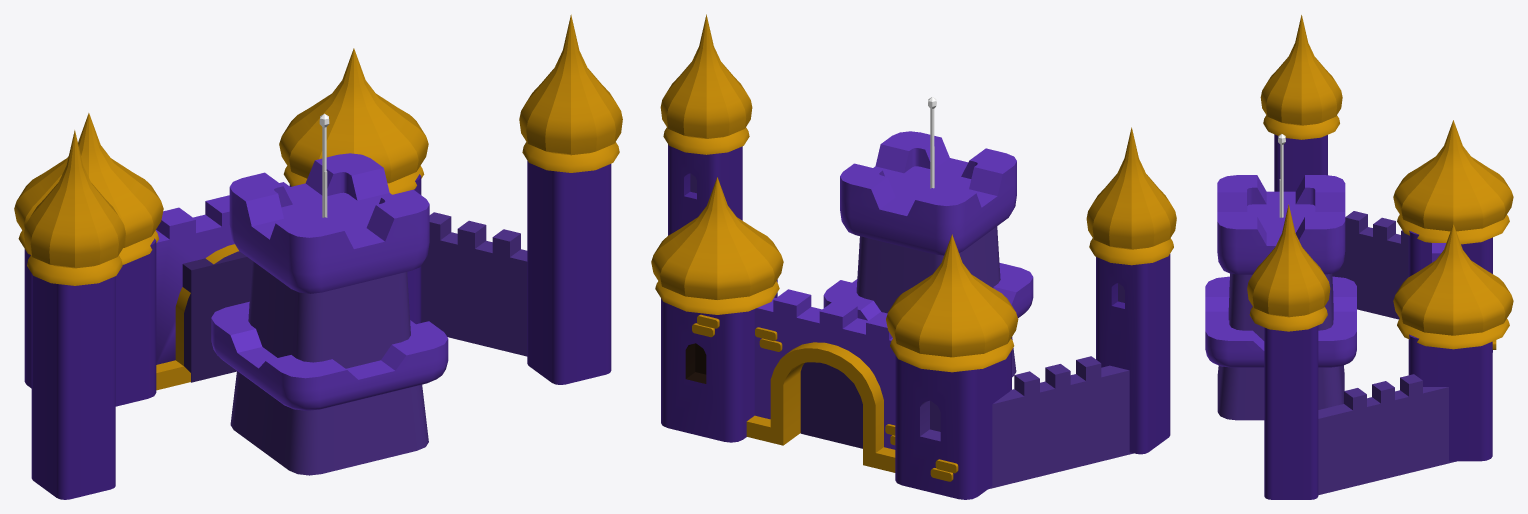
Rendered from CubeCastle_02_2.fbx.
The picture shows the model from 3 angles, left to right: view 1: azimuth 30°, elevation 25°; view 2: azimuth 150°, elevation 25°; view 3: azimuth 270°, elevation 25°; orthographic projection. The views are drawn at different scales.
Parts seen in each view (by area): view 1: CastleT8, CastleT8 (1), CastleT6 (1), CastleT6 (2), CastleT4 (3), Cupol (5), Cupol (2), Cupol (3), CastleT1, CastleT2 (2), Cupol (6), Gate (+1 smaller); view 2: CastleT8, CastleT1, CastleT4 (2), CastleT2 (2), CastleT6 (1), CastleT2 (3), Cupol (5), Cupol (6), Cupol (2), Cupol (3), CastleT6 (2), Gate (+1 smaller); view 3: CastleT4 (3), CastleT8, CastleT8 (1), CastleT6 (2), Cupol (5), Cupol (6), CastleT2 (3), Cupol (2), Cupol (3), CastleT4 (2), CastleT6 (1), CastleT2 (2) (+1 smaller).
Part boxes in pixels (left/top/right/bottom): CastleT8: left=229, top=153, right=429, bottom=368; CastleT8 (1): left=211, top=301, right=448, bottom=475; CastleT6 (1): left=31, top=273, right=115, bottom=499; CastleT6 (2): left=527, top=161, right=611, bottom=384; CastleT4 (3): left=421, top=212, right=527, bottom=356; Cupol (5): left=279, top=48, right=428, bottom=194; Cupol (2): left=519, top=14, right=622, bottom=172; Cupol (3): left=24, top=130, right=125, bottom=285; CastleT1: left=155, top=182, right=289, bottom=390; CastleT2 (2): left=24, top=238, right=156, bottom=406; Cupol (6): left=14, top=113, right=163, bottom=264; Gate: left=182, top=251, right=251, bottom=382; CastleT8: left=840, top=131, right=1016, bottom=313; CastleT1: left=746, top=289, right=895, bottom=472; CastleT4 (2): left=988, top=356, right=1133, bottom=489; CastleT2 (2): left=895, top=337, right=1011, bottom=499; CastleT6 (1): left=1096, top=254, right=1170, bottom=454; CastleT2 (3): left=661, top=279, right=777, bottom=442; Cupol (5): left=651, top=177, right=783, bottom=314; Cupol (6): left=886, top=234, right=1018, bottom=372; Cupol (2): left=660, top=14, right=752, bottom=154; Cupol (3): left=1086, top=127, right=1176, bottom=265; CastleT6 (2): left=668, top=144, right=742, bottom=235; Gate: left=800, top=362, right=862, bottom=448; CastleT4 (3): left=1318, top=374, right=1456, bottom=495; CastleT8: left=1217, top=175, right=1345, bottom=340; CastleT8 (1): left=1205, top=276, right=1356, bottom=420; CastleT6 (2): left=1264, top=325, right=1318, bottom=499; Cupol (5): left=1393, top=224, right=1513, bottom=349; Cupol (6): left=1393, top=120, right=1513, bottom=244; CastleT2 (3): left=1408, top=334, right=1492, bottom=461; Cupol (2): left=1247, top=204, right=1330, bottom=331; Cupol (3): left=1260, top=15, right=1342, bottom=139; CastleT4 (2): left=1332, top=211, right=1408, bottom=319; CastleT6 (1): left=1274, top=134, right=1327, bottom=191; CastleT2 (2): left=1408, top=230, right=1492, bottom=352.
Bounding box in the file's own units: 21.51 × 12.71 × 12.37.
